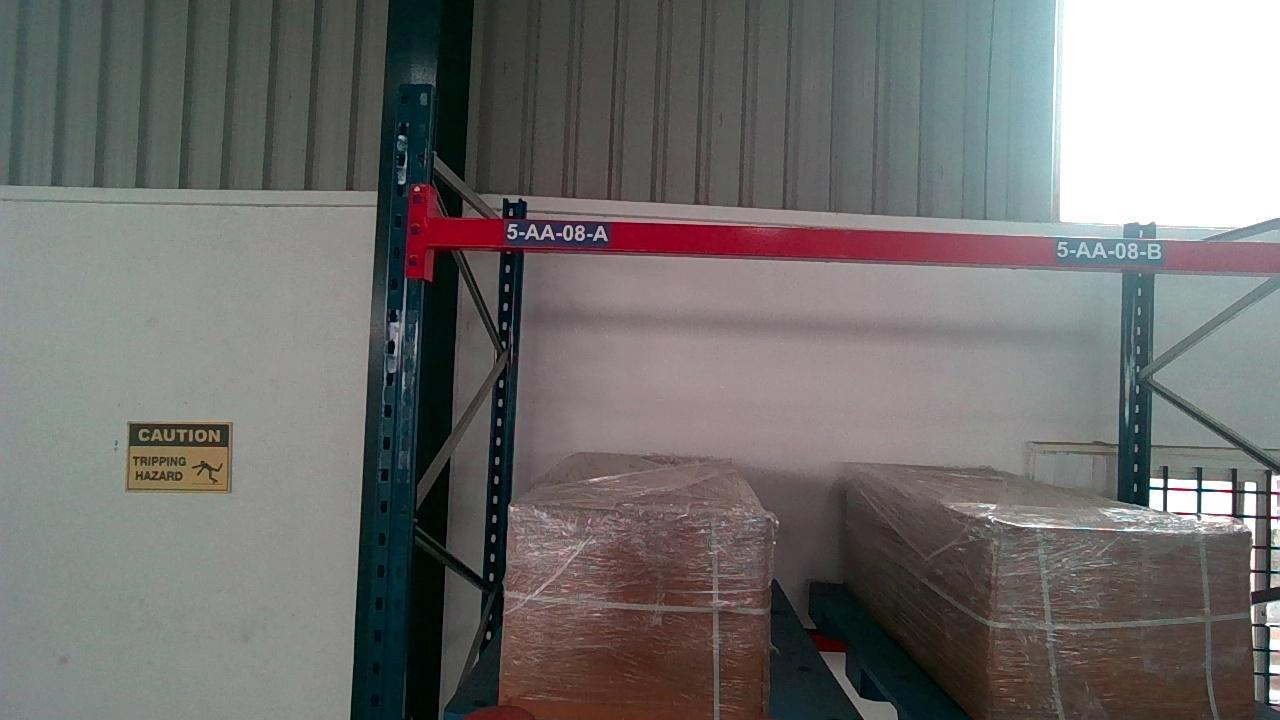h_rack: (420, 217, 1280, 277)
